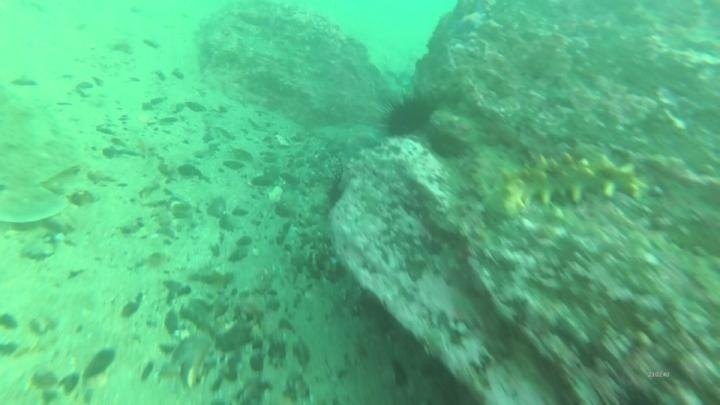echinus: (380, 93, 436, 140), (426, 128, 469, 161)
holothurian: (493, 144, 652, 216)
starfish: (335, 121, 385, 158)
